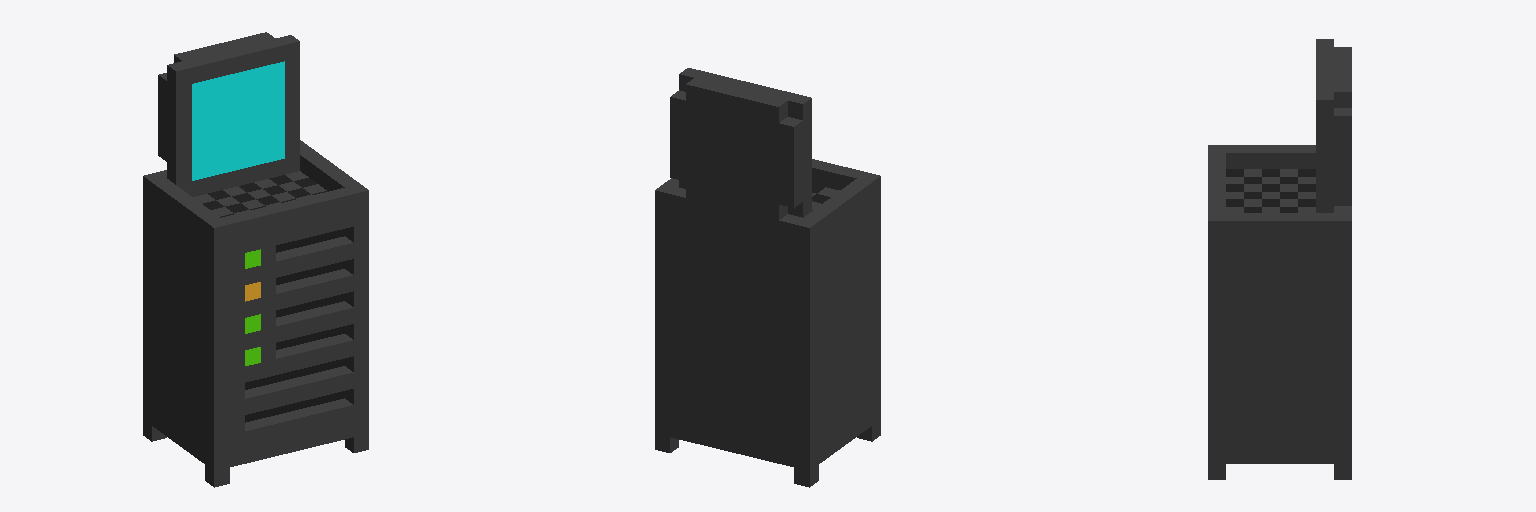
3 renders of one model, left to right at view 1: azimuth 30°, elevation 25°; view 2: azimuth 150°, elevation 25°; view 3: azimuth 270°, elevation 25°, orthographic.
Parts seen in each view (by area): view 1: object 1; view 2: object 1; view 3: object 1.
Part boxes in pixels (left/top/right/bottom): object 1: left=143, top=32, right=368, bottom=487; object 1: left=655, top=68, right=880, bottom=487; object 1: left=1208, top=39, right=1351, bottom=479.
Size of the model in its own units: 1 by 2.3 by 0.8.
Materials: 1 (1 with a texture image).